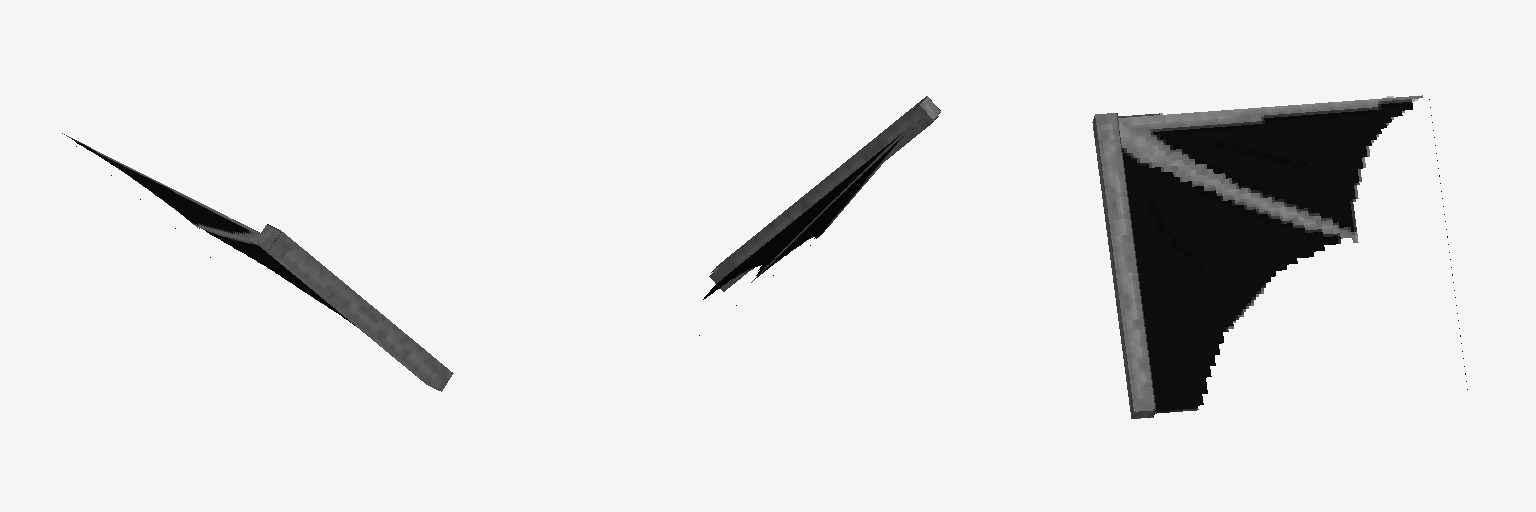
3 views of the same model, side by side, from view 1: azimuth 30°, elevation 25°; view 2: azimuth 150°, elevation 25°; view 3: azimuth 270°, elevation 25° (orthographic).
Parts seen in each view (by area): view 1: Enderdragon_Malla; view 2: Enderdragon_Malla; view 3: Enderdragon_Malla.
Part boxes in pixels (x1,y1,x2,y2): Enderdragon_Malla: (62,133,453,391); Enderdragon_Malla: (699,96,940,335); Enderdragon_Malla: (1092,95,1467,418).
Size of the model in its own units: 8.08 by 6.74 by 10.53.
1 materials, 1 textured.